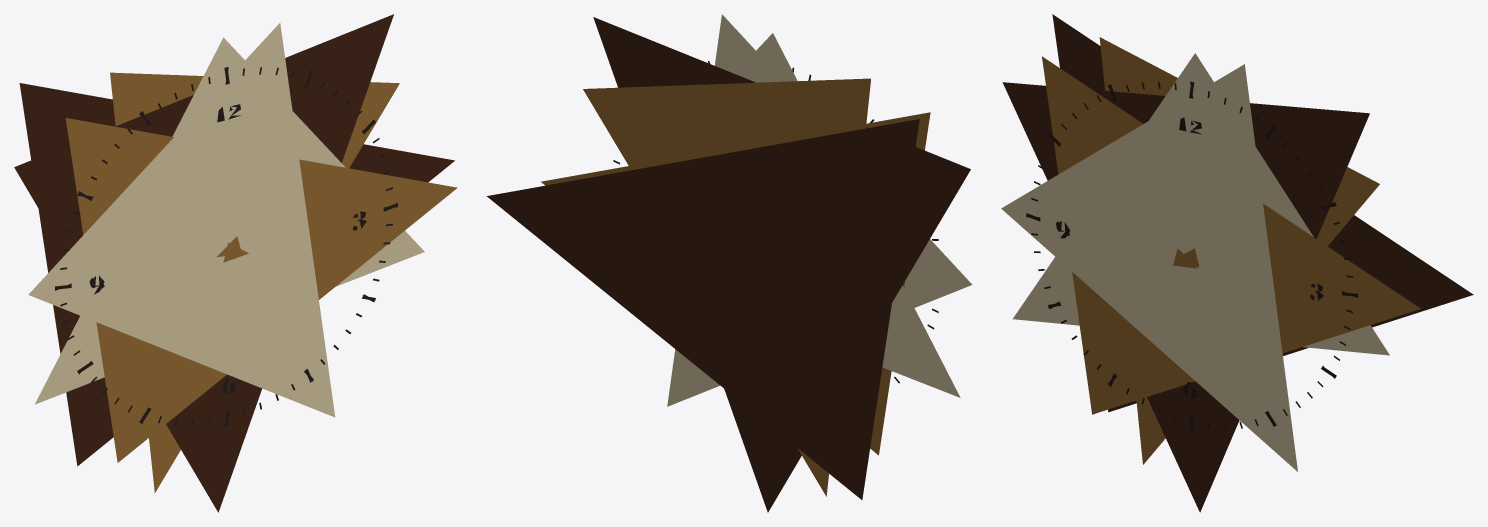
The model's file is StoppedPubClock.glb.
The picture shows the model from 3 angles, left to right: view 1: azimuth 30°, elevation 25°; view 2: azimuth 150°, elevation 25°; view 3: azimuth 330°, elevation 25°; orthographic projection. The views are drawn at different scales.
Parts seen in each view (by area): view 1: IvoryClockFace, BrassClockRim, OakClockCase; view 2: OakClockCase, BrassClockRim, IvoryClockFace; view 3: IvoryClockFace, BrassClockRim, OakClockCase.
Boxes of the visible parts, bbox=[...] form: IvoryClockFace: bbox=[28, 23, 424, 417]; BrassClockRim: bbox=[65, 72, 457, 492]; OakClockCase: bbox=[14, 14, 454, 512]; OakClockCase: bbox=[486, 17, 970, 512]; BrassClockRim: bbox=[541, 78, 930, 496]; IvoryClockFace: bbox=[667, 14, 972, 406]; IvoryClockFace: bbox=[1001, 53, 1389, 471]; BrassClockRim: bbox=[1042, 37, 1420, 464]; OakClockCase: bbox=[1002, 14, 1473, 512].
Size of the model in its own units: 2.44 by 2.42 by 0.36.
